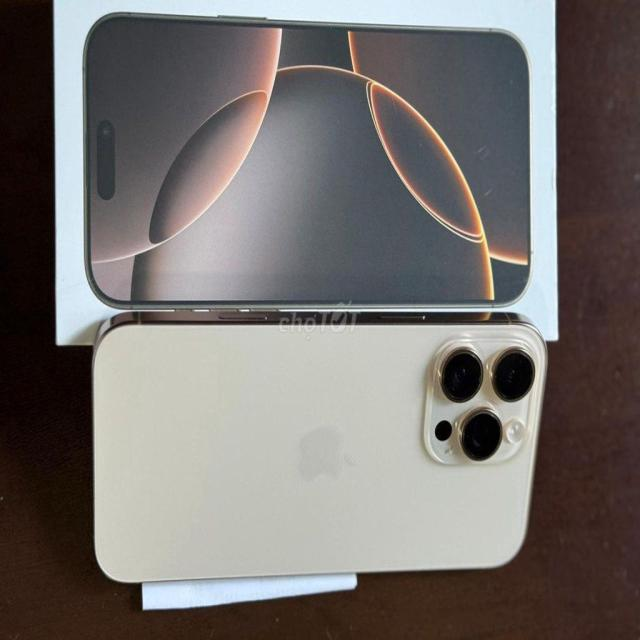gen_16: (89, 304, 548, 596)
